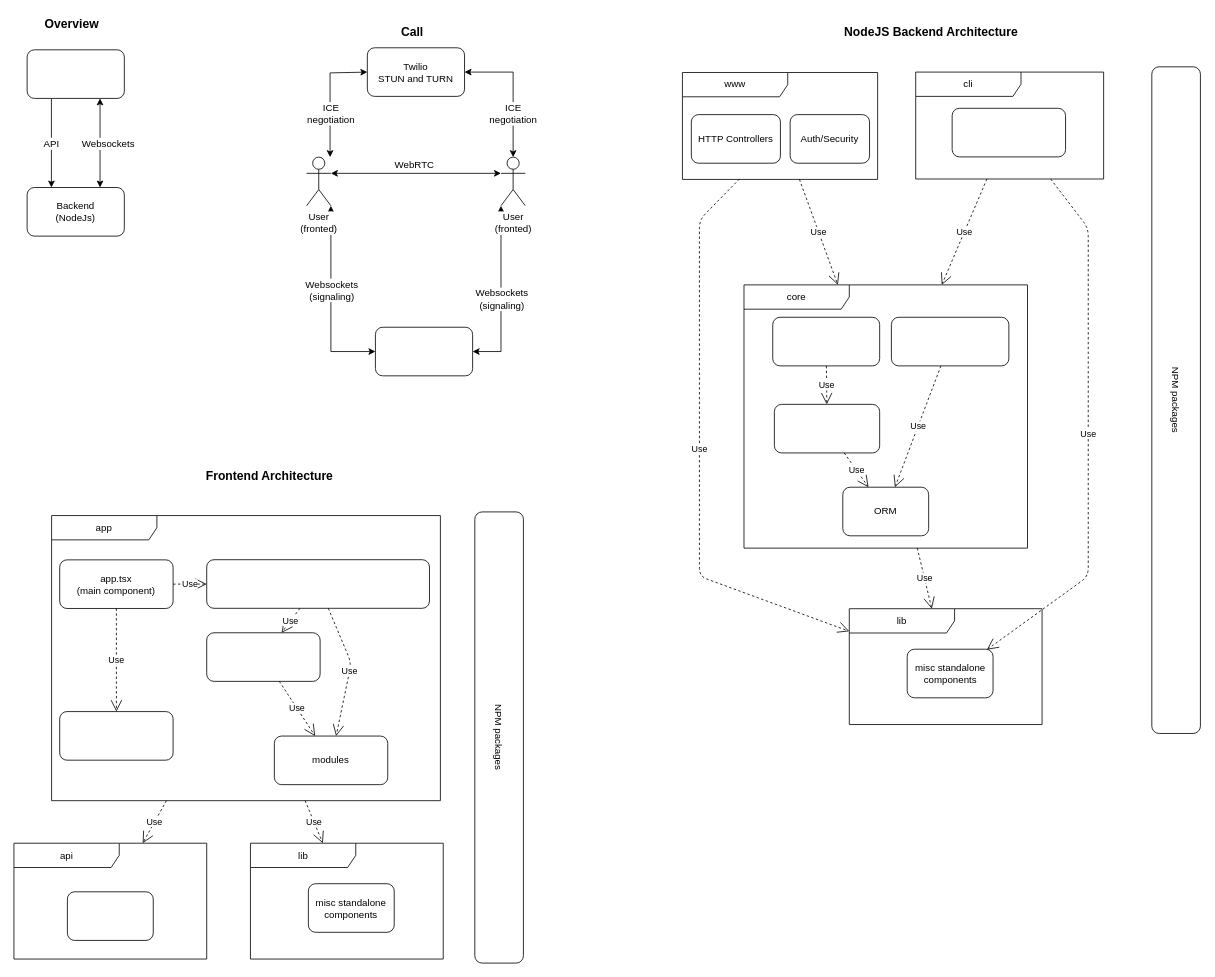
Some shapes in this 1215 by 977 pixel diagram are drawn without their labels. The centre of each missing label's shape, as x and y in pixels:
"api sdk functions" belongs at (x=110, y=915).
"Backend" belongs at (x=424, y=351).
"CLI Commands" belongs at (x=1008, y=132).
"commands (WRITE use cases)" belongs at (x=826, y=341).
"components" belongs at (x=263, y=656).
"entity repository" belongs at (x=827, y=428).
"Frontend (React)" belongs at (x=75, y=73).
"pages" belongs at (x=317, y=583).
"queries (READ use cases)" belongs at (x=950, y=341).
"store" belongs at (x=116, y=735).
